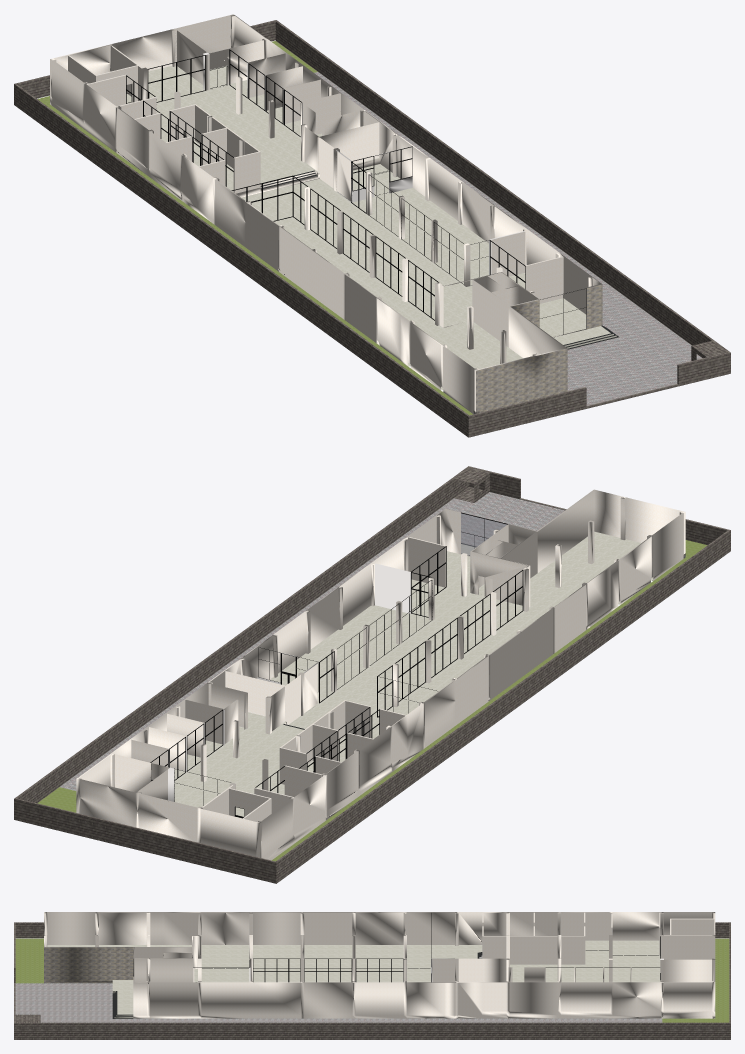
File: Without Furniture-2.glb
3 views of the same model, one above another, from view 1: azimuth 30°, elevation 25°; view 2: azimuth 150°, elevation 25°; view 3: azimuth 270°, elevation 25° (orthographic). The views are drawn at different scales.
Parts seen in each view (by area): view 1: Group5, Group1, Group6, Group2, Group34, Group7, Group35, Group32, Group31, Group30, Group36, Group41 (+1 smaller); view 2: Group5, Group1, Group6, Group34, Group2, Group35, Group7, Group32, Group31, Group30, Group_21_1, Group36 (+1 smaller); view 3: Group5, Group1, Group2, Group6, Group35, Group7, Group34, Group32, Group9, Group19, Group8.
Part boxes in pixels (box(x1,y1,x2,y2)): Group5: box(50, 14, 602, 414); Group1: box(14, 20, 730, 437); Group6: box(241, 164, 586, 368); Group2: box(37, 41, 702, 415); Group34: box(175, 30, 379, 202); Group7: box(126, 65, 379, 191); Group35: box(68, 46, 260, 193); Group32: box(439, 272, 538, 347); Group31: box(525, 256, 563, 303); Group30: box(489, 231, 525, 276); Group36: box(126, 75, 233, 186); Group41: box(229, 49, 302, 136); Group5: box(76, 489, 685, 860); Group1: box(14, 466, 730, 883); Group6: box(270, 531, 640, 738); Group34: box(115, 662, 318, 800); Group2: box(37, 492, 707, 861); Group35: box(202, 700, 405, 821); Group7: box(174, 712, 345, 818); Group32: box(470, 524, 537, 607); Group31: box(408, 537, 445, 587); Group30: box(375, 563, 410, 613); Group_21_1: box(461, 512, 507, 555); Group36: box(255, 707, 379, 792); Group5: box(44, 912, 715, 1018); Group1: box(14, 922, 730, 1039); Group2: box(15, 938, 729, 1022); Group6: box(47, 945, 482, 982); Group35: box(482, 912, 714, 964); Group7: box(510, 940, 660, 982); Group34: box(431, 958, 711, 982); Group32: box(134, 936, 197, 982); Group9: box(112, 980, 133, 1014); Group19: box(253, 958, 300, 982); Group8: box(112, 991, 133, 1018).
Size of the model in its own units: 100 by 17 by 300.
14 materials, 9 textured.
